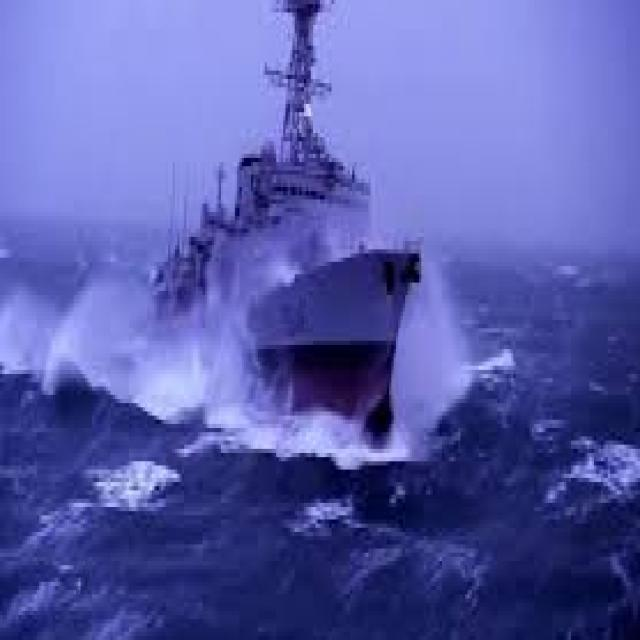navalvessels: (134, 0, 442, 432)
